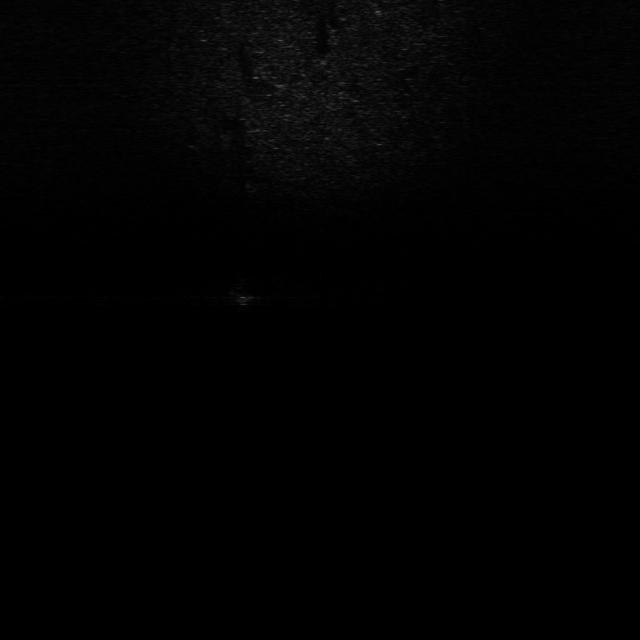human body: (223, 279, 258, 316)
